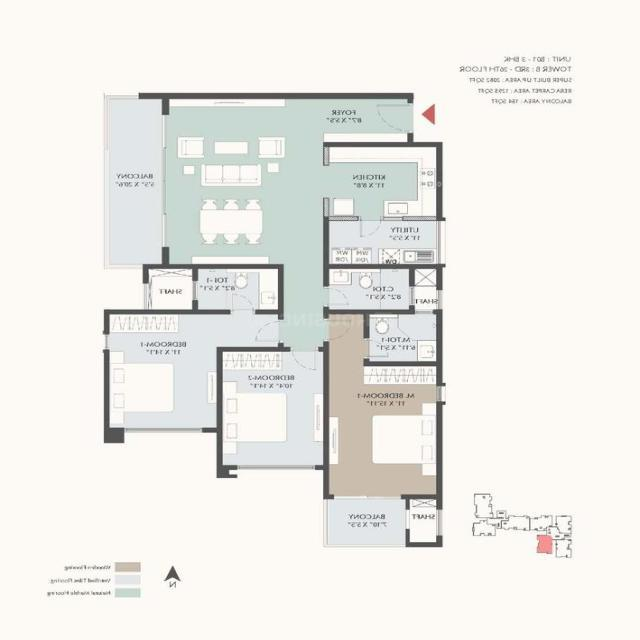Balcony-Sitout: (104, 95, 166, 267)
Bedroom: (106, 310, 281, 429), (217, 349, 325, 467)
Bedroom with Toilet: (327, 363, 441, 496)
Dining: (164, 189, 290, 261)
Enterance-Foyer: (357, 100, 439, 139)
Kitchen: (324, 147, 441, 218)
Living: (162, 96, 290, 190)
Toilet: (366, 310, 441, 363), (193, 266, 283, 310), (326, 266, 415, 310)
Utility: (325, 218, 439, 263)
